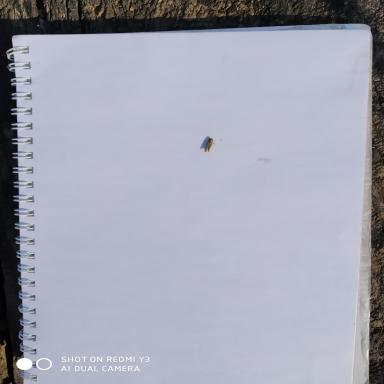pbw: (204, 136, 213, 153)
